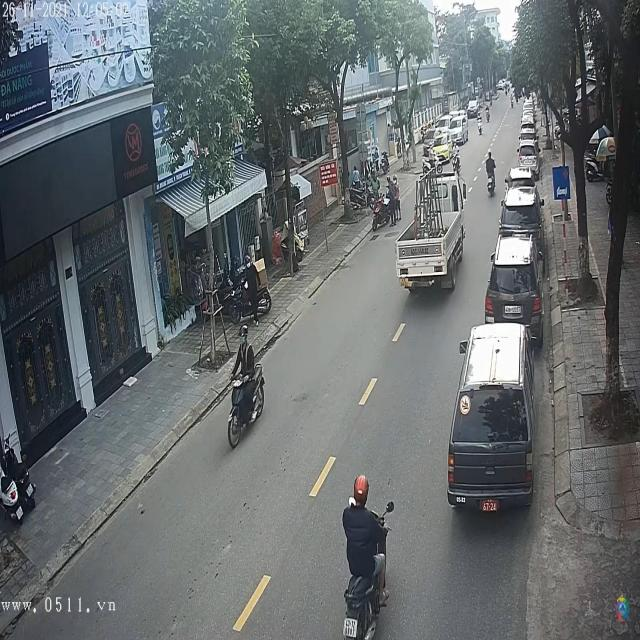car: (449, 326, 534, 512), (485, 236, 543, 332), (500, 185, 544, 238), (518, 144, 540, 169), (518, 125, 536, 142), (467, 98, 481, 118)
motorcycle: (227, 360, 264, 450), (484, 170, 499, 197)
truck: (397, 170, 467, 290)
